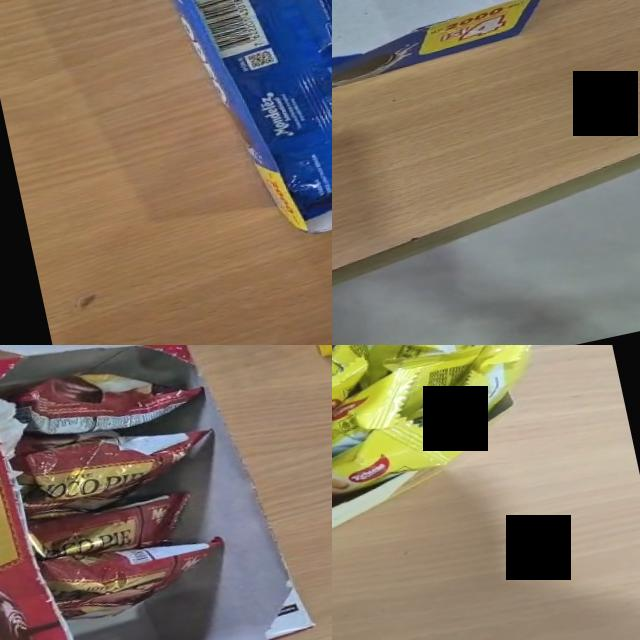Ahh: (332, 345, 504, 488), (332, 409, 473, 552), (397, 345, 559, 448), (332, 345, 465, 401), (332, 355, 384, 475), (389, 345, 480, 362)
Chocopie: (12, 412, 224, 522), (4, 346, 210, 450), (36, 522, 231, 626), (26, 487, 199, 569)
Oreo: (160, 0, 332, 237)
